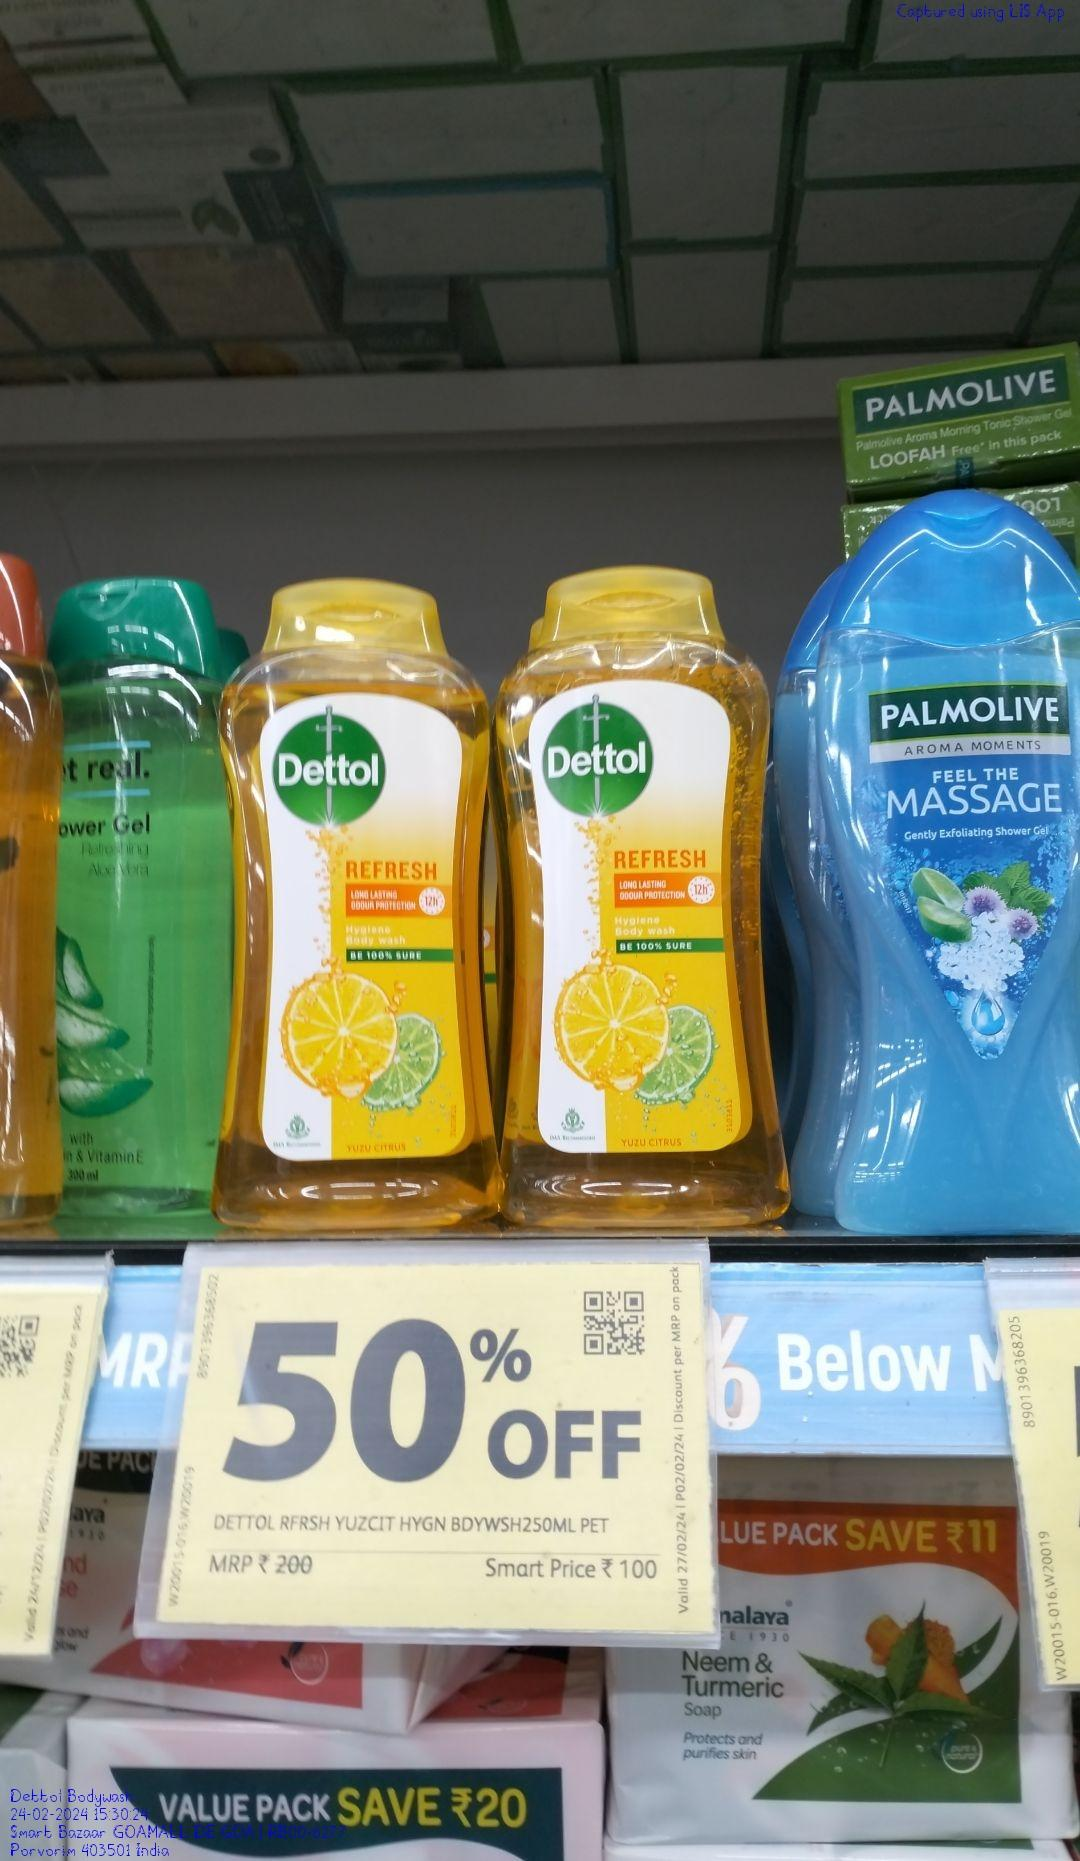Dettol_Bodywash_Refresh: (512, 572, 774, 1229), (234, 589, 495, 1226)
Palmolive_Aroma_Moments_Feel_The_Massage_Shower_Gel_250ML: (807, 494, 1080, 1231)
